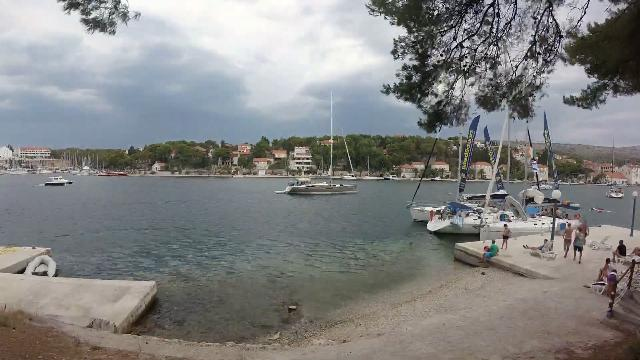Sailboat: (278, 168, 362, 200)
speedboat: (39, 170, 79, 192)
